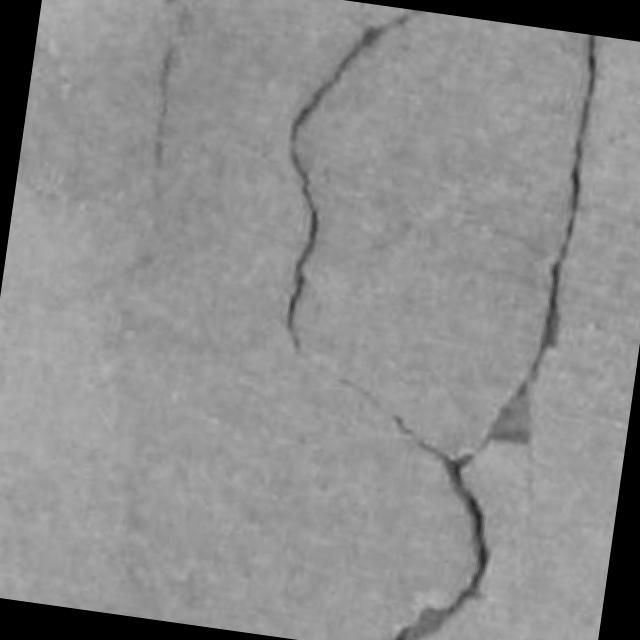crack: (481, 34, 598, 448), (286, 10, 424, 349), (533, 35, 598, 378), (393, 417, 490, 639), (395, 452, 490, 639), (153, 41, 177, 169), (153, 45, 175, 169), (166, 0, 178, 5)
